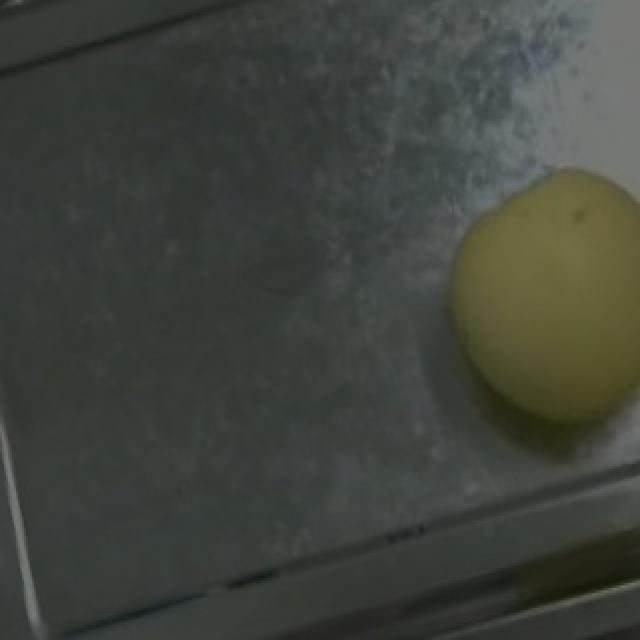Fruit: (406, 144, 640, 456)
